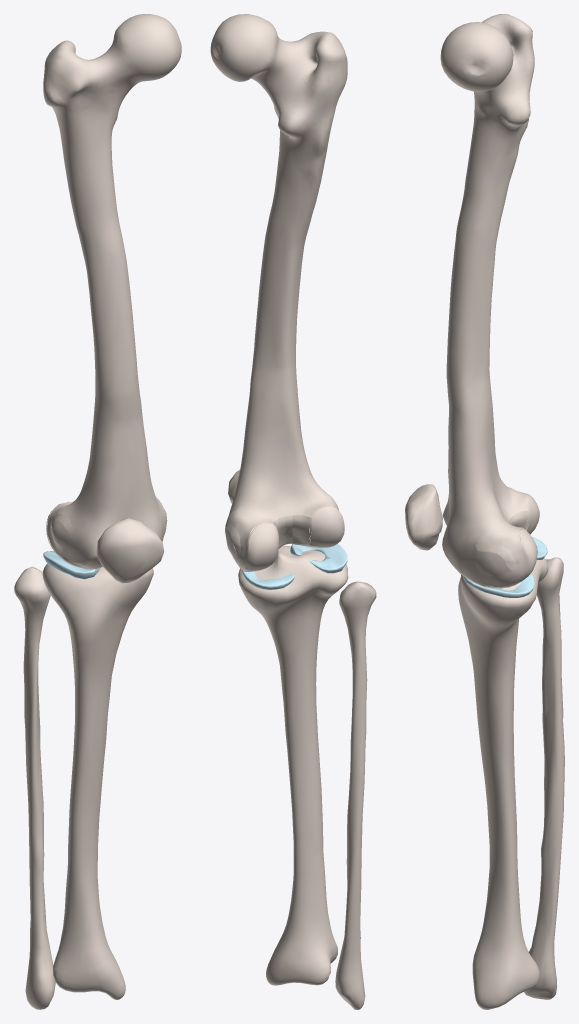
File: leg_r.glb
The picture shows the model from 3 angles, left to right: view 1: azimuth 30°, elevation 25°; view 2: azimuth 210°, elevation 25°; view 3: azimuth 270°, elevation 25°; orthographic projection. The views are drawn at different scales.
Parts seen in each view (by area): view 1: VH_F_femur_R, VH_F_tibia_R, VH_F_fibula_R, VH_F_patella_R, VH_F_meniscus_R; view 2: VH_F_femur_R, VH_F_tibia_R, VH_F_fibula_R, VH_F_meniscus_R, VH_F_medial_condyle_of_right_femur_inf, VH_F_lateral_condyle_of_femur_inf_R, VH_F_anterior_cruciate_enthesis_R, VH_F_posterior_cruciate_enthesis_R; view 3: VH_F_femur_R, VH_F_tibia_R, VH_F_fibula_R, VH_F_patella_R, VH_F_meniscus_R, VH_F_medial_perichondular_surface_R, VH_F_medial_condyle_of_right_femur_inf, VH_F_articular_cartilage_of_knee_R, VH_F_medial_epicondylar_enthesis_R.
Boxes of the visible parts, bbox=[...] form: VH_F_femur_R: bbox=[43, 14, 181, 562]; VH_F_tibia_R: bbox=[42, 563, 153, 999]; VH_F_fibula_R: bbox=[14, 566, 55, 1009]; VH_F_patella_R: bbox=[96, 518, 164, 583]; VH_F_meniscus_R: bbox=[43, 551, 99, 579]; VH_F_femur_R: bbox=[210, 14, 347, 567]; VH_F_tibia_R: bbox=[238, 545, 348, 985]; VH_F_fibula_R: bbox=[335, 581, 376, 1009]; VH_F_meniscus_R: bbox=[241, 539, 347, 589]; VH_F_medial_condyle_of_right_femur_inf: bbox=[245, 524, 278, 570]; VH_F_lateral_condyle_of_femur_inf_R: bbox=[310, 506, 344, 547]; VH_F_anterior_cruciate_enthesis_R: bbox=[292, 515, 311, 544]; VH_F_posterior_cruciate_enthesis_R: bbox=[275, 515, 293, 547]; VH_F_femur_R: bbox=[440, 14, 534, 585]; VH_F_tibia_R: bbox=[458, 558, 548, 1009]; VH_F_fibula_R: bbox=[524, 557, 564, 999]; VH_F_patella_R: bbox=[405, 484, 442, 550]; VH_F_meniscus_R: bbox=[463, 537, 547, 597]; VH_F_medial_perichondular_surface_R: bbox=[473, 551, 509, 576]; VH_F_medial_condyle_of_right_femur_inf: bbox=[519, 528, 537, 581]; VH_F_articular_cartilage_of_knee_R: bbox=[442, 493, 529, 587]; VH_F_medial_epicondylar_enthesis_R: bbox=[475, 542, 516, 569].
Size of the model in its own units: 0.1016 by 0.7718 by 0.1105.
